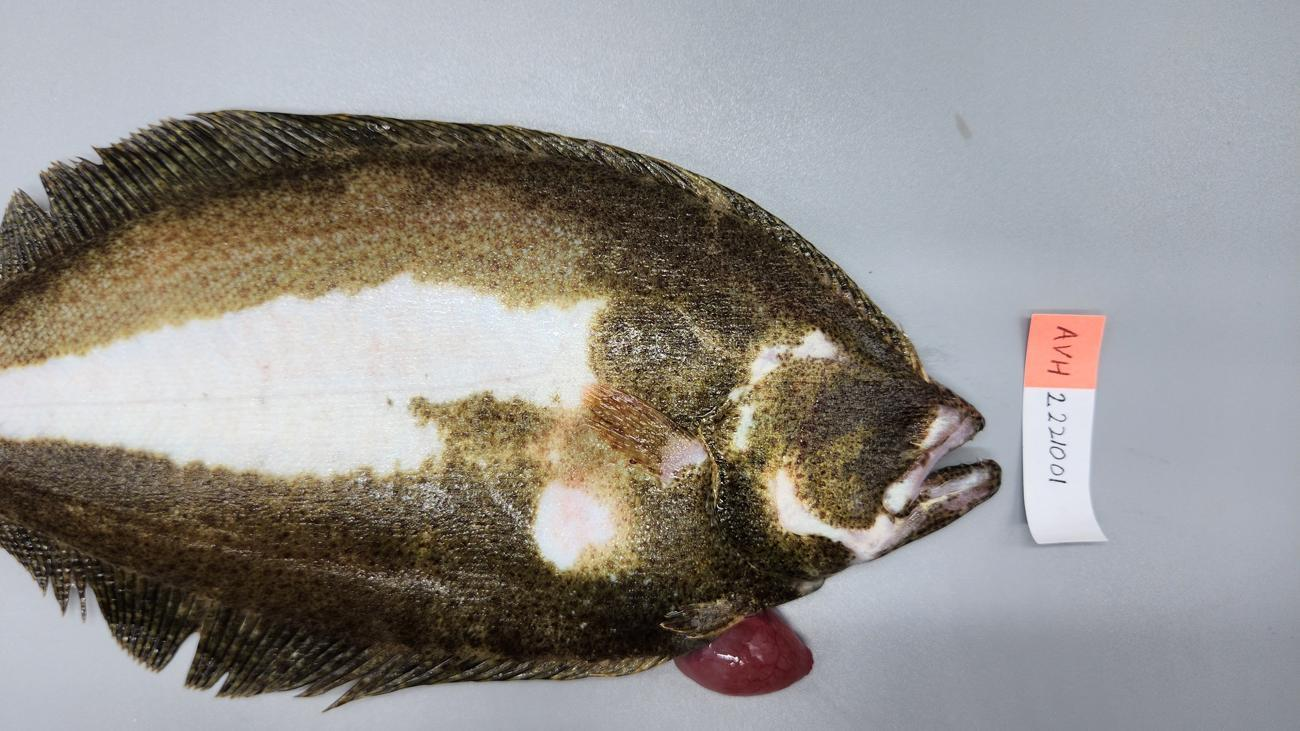VIFDH: (527, 371, 685, 568)
